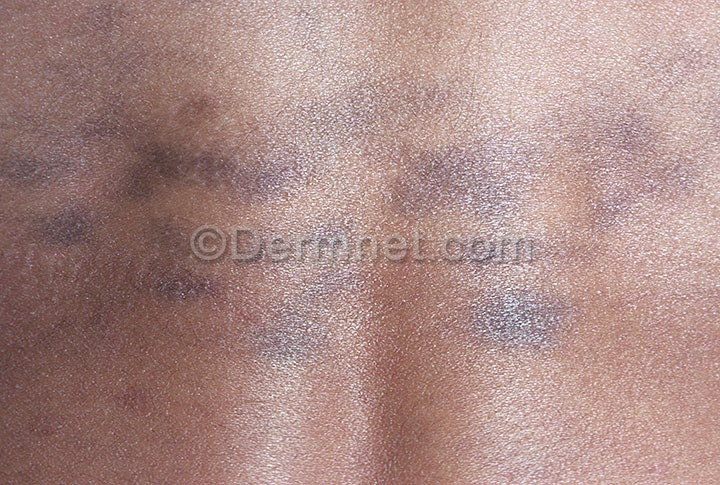Melasma: (0, 95, 720, 230), (0, 270, 670, 379)
